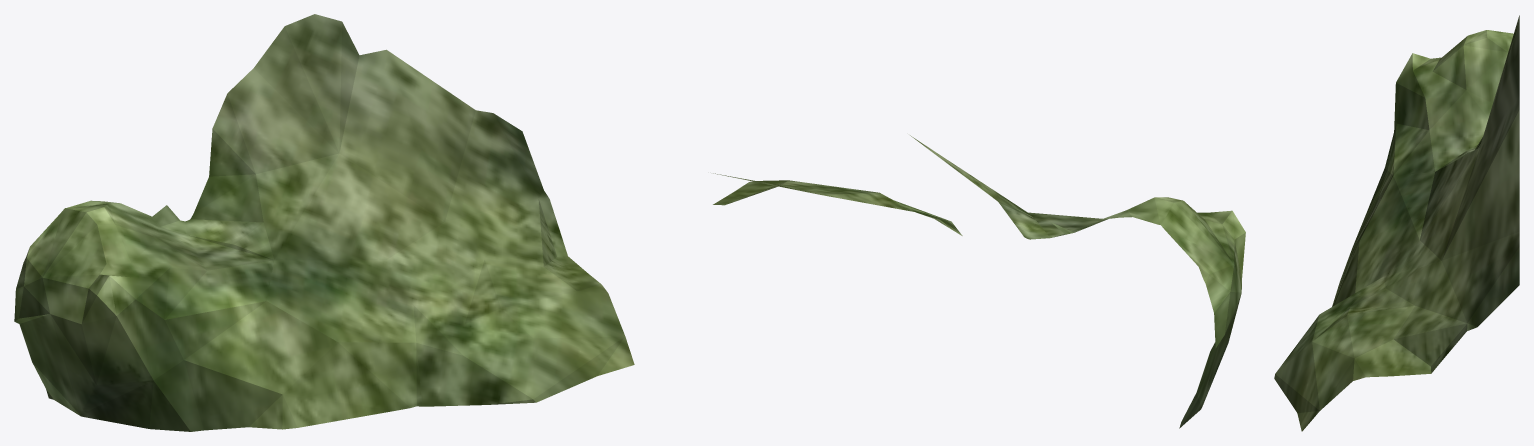
The picture shows the model from 3 angles, left to right: view 1: azimuth 30°, elevation 25°; view 2: azimuth 150°, elevation 25°; view 3: azimuth 270°, elevation 25°; orthographic projection. The views are drawn at different scales.
Size of the model in its own units: 2.37 by 1.42 by 1.02.
1 material, 1 textured.
